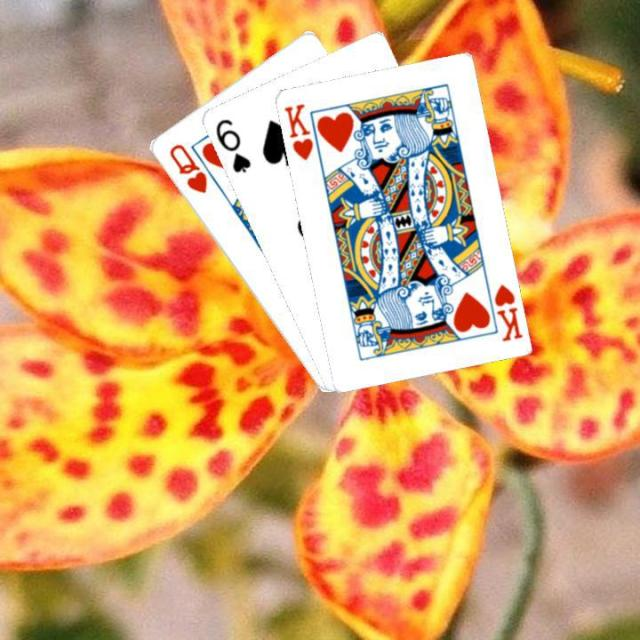6S: (210, 115, 252, 174)
KH: (489, 279, 523, 343), (280, 100, 315, 162)
QH: (164, 140, 209, 196)
